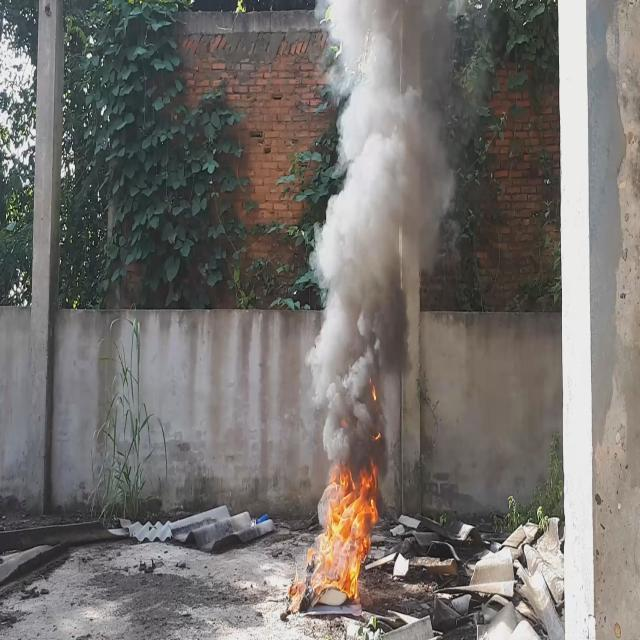Fire: (314, 458, 381, 597)
Smoke: (309, 0, 461, 474)
